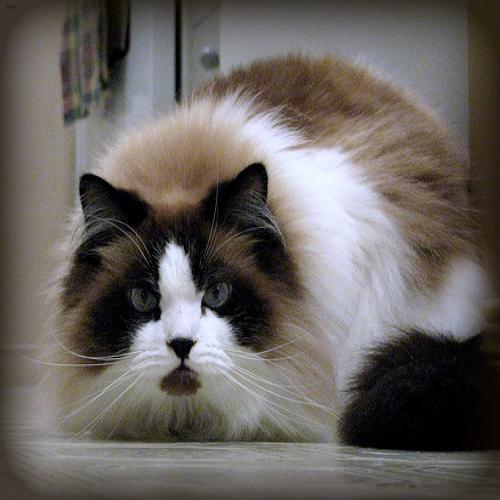ragdoll: (42, 154, 298, 453)
